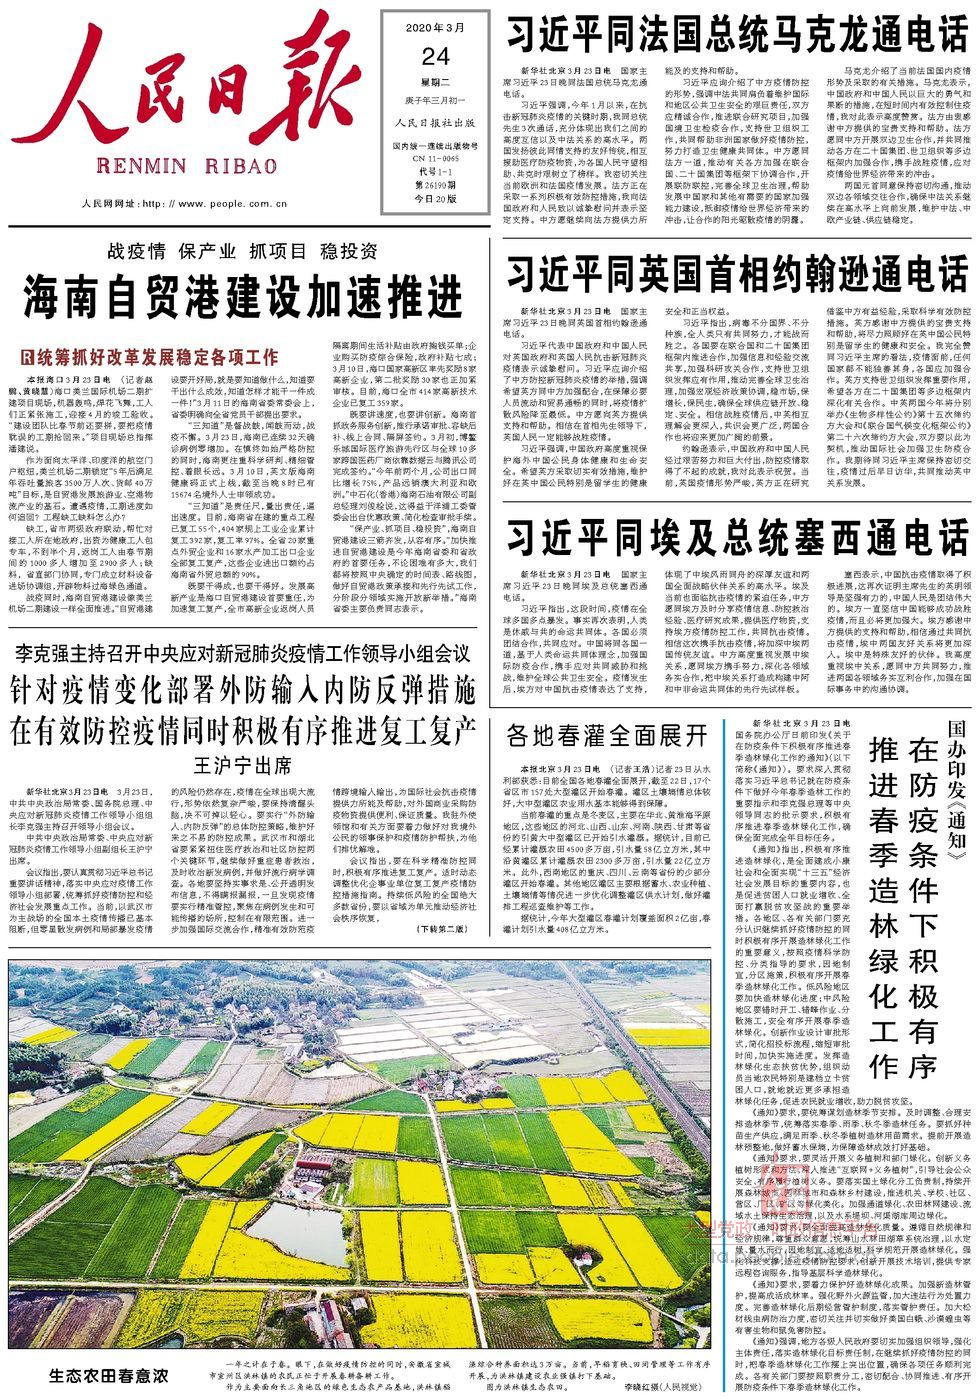pic: (3, 954, 718, 1354)
